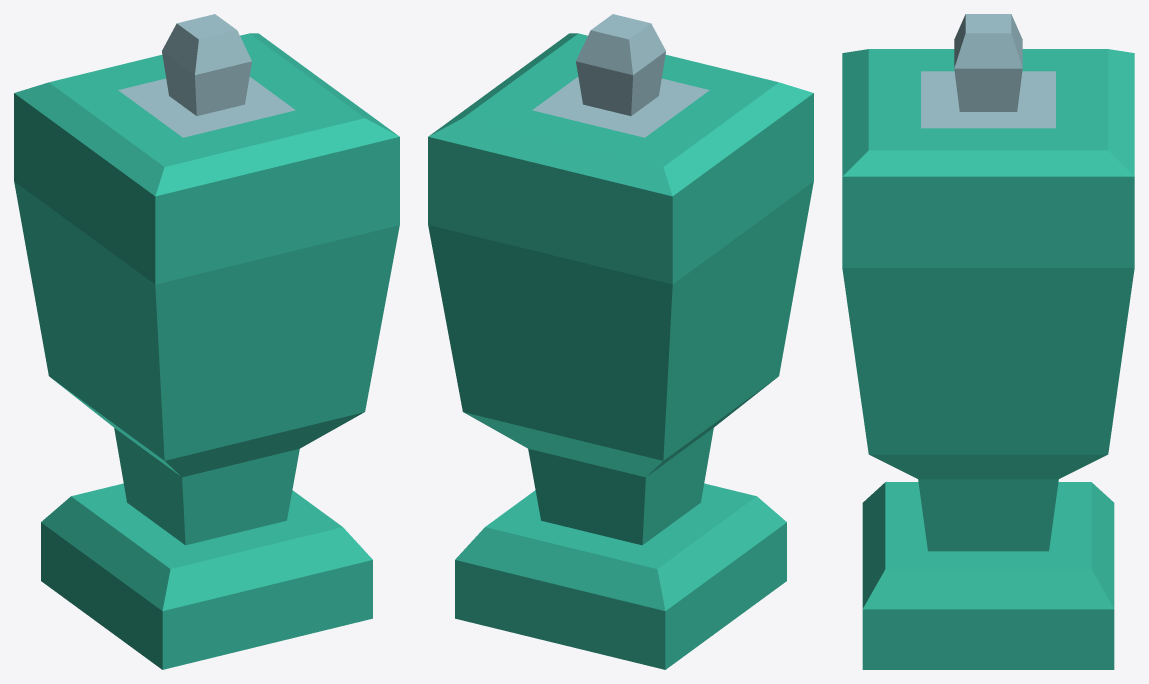
Rendered from d_kenney_urne.glb.
The picture shows the model from 3 angles, left to right: view 1: azimuth 30°, elevation 25°; view 2: azimuth 150°, elevation 25°; view 3: azimuth 270°, elevation 25°; orthographic projection. The views are drawn at different scales.
Visible parts, largest first — view 1: d_kenney_urne; view 2: d_kenney_urne; view 3: d_kenney_urne.
Boxes of the visible parts, box(x1,y1,x2,y2) form: d_kenney_urne: box(14, 14, 399, 669); d_kenney_urne: box(428, 14, 813, 669); d_kenney_urne: box(842, 14, 1134, 669).
Bounding box in the file's own units: 0.1742 × 0.39 × 0.1742.
1 material, 1 textured.
